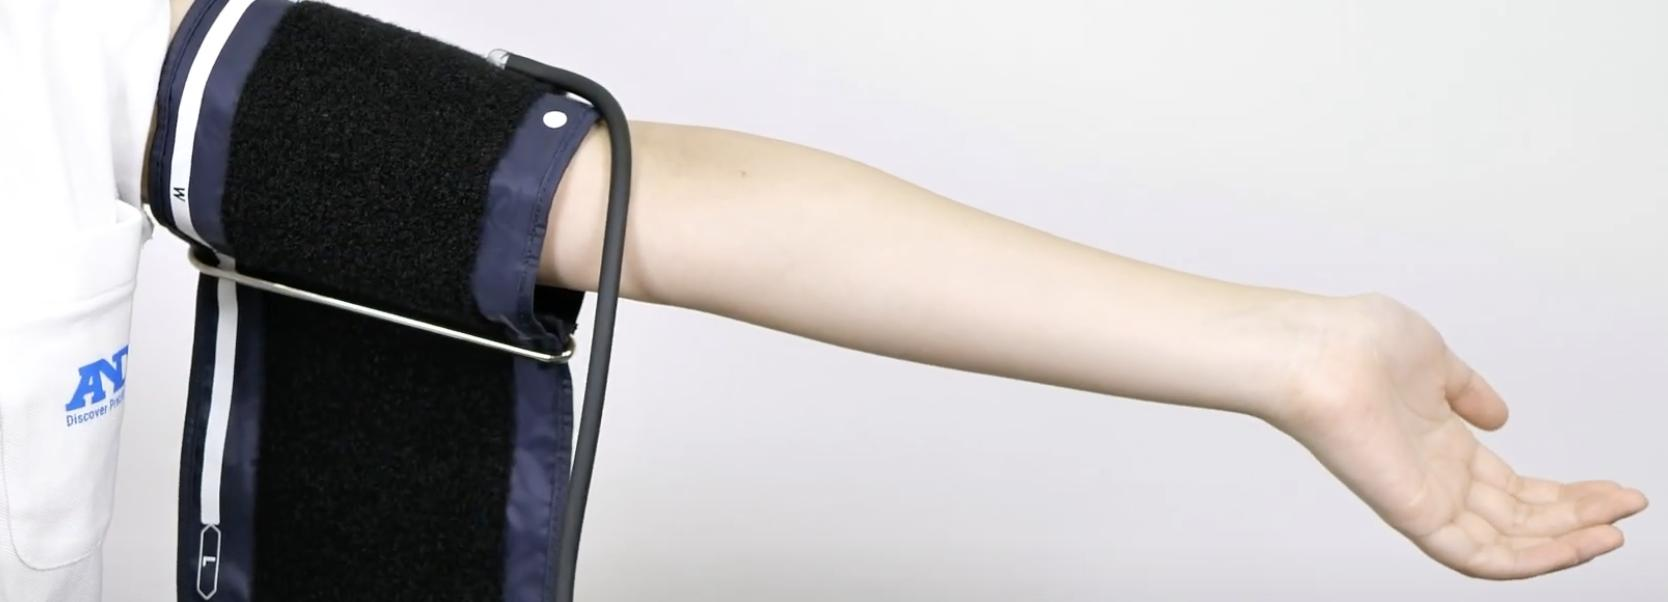cuff: (161, 1, 594, 353)
